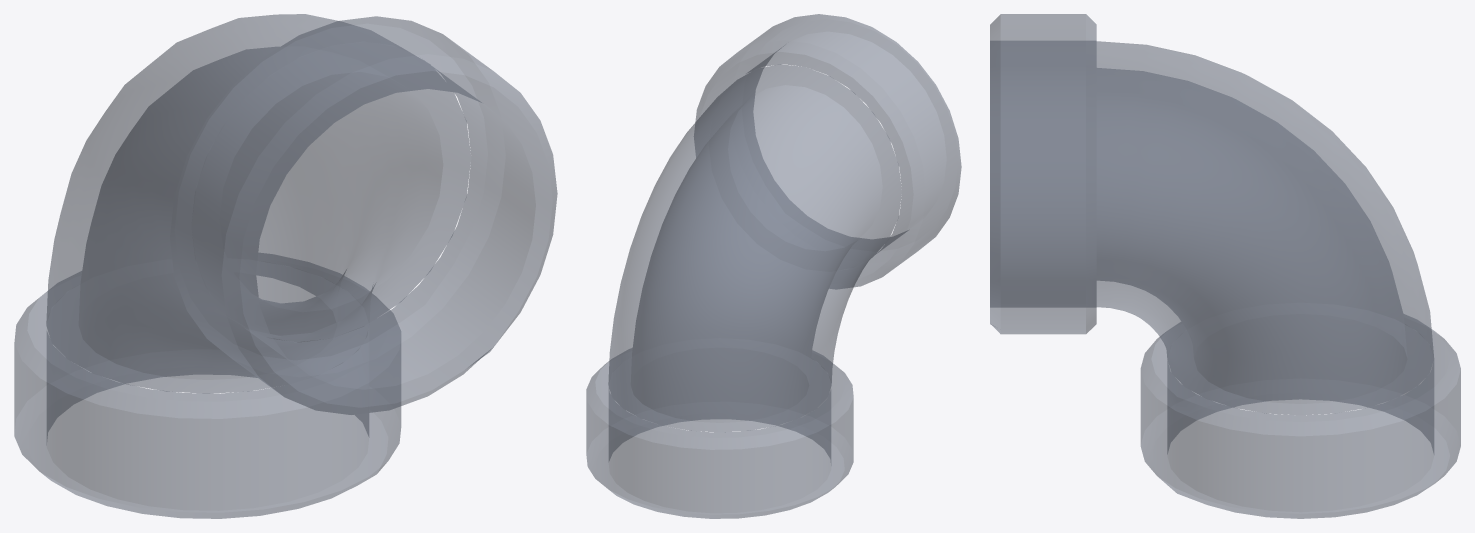
3 views of the same model, side by side, from view 1: azimuth 30°, elevation 25°; view 2: azimuth 150°, elevation 25°; view 3: azimuth 270°, elevation 25° (orthographic). The views are drawn at different scales.
Visible parts, largest first — view 1: Tube001, Donut015, Donut014; view 2: Tube001, Donut014, Donut015; view 3: Tube001, Donut014, Donut015.
Part boxes in pixels (<box>): Tube001: <box>46,14,471,393</box>; Donut015: <box>170,16,557,414</box>; Donut014: <box>14,253,401,518</box>; Tube001: <box>608,64,901,432</box>; Donut014: <box>586,348,853,518</box>; Donut015: <box>694,14,961,289</box>; Tube001: <box>1096,41,1434,415</box>; Donut014: <box>1140,314,1460,518</box>; Donut015: <box>990,14,1096,334</box>.
Size of the model in its own units: 3.54 by 5.21 by 5.21.
